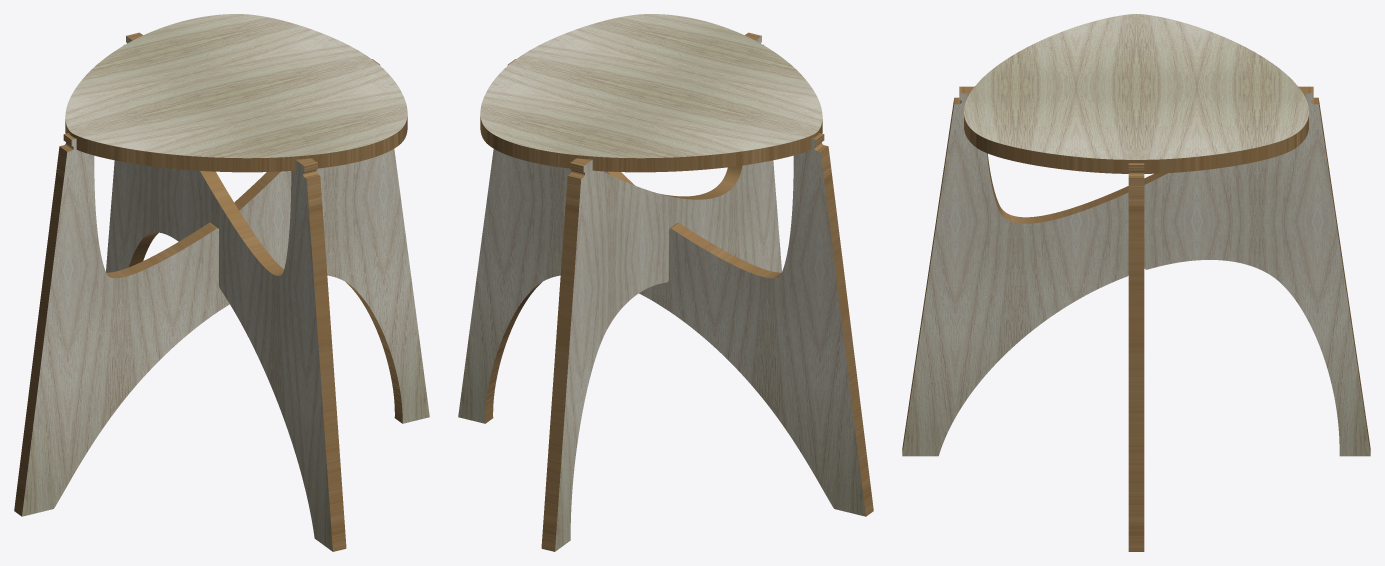
Rendered from NODO_BANQUETA_CRUZ_KIRI_V1_REVISION.glb.
The picture shows the model from 3 angles, left to right: view 1: azimuth 30°, elevation 25°; view 2: azimuth 150°, elevation 25°; view 3: azimuth 270°, elevation 25°; orthographic projection.
Visible parts, largest first — view 1: Lateral_2, Tapa, Lateral_1; view 2: Lateral_2, Tapa, Lateral_1; view 3: Lateral_1, Tapa, Lateral_2.
Part boxes in pixels (left/top/right/bottom): Lateral_2: left=14, top=59, right=429, bottom=516; Tapa: left=65, top=14, right=407, bottom=172; Lateral_1: left=106, top=32, right=346, bottom=551; Lateral_2: left=458, top=59, right=873, bottom=516; Tapa: left=480, top=14, right=822, bottom=172; Lateral_1: left=541, top=32, right=781, bottom=551; Lateral_1: left=902, top=86, right=1370, bottom=456; Tapa: left=964, top=14, right=1308, bottom=173; Lateral_2: left=1128, top=163, right=1144, bottom=551.
Size of the model in its own units: 0.5431 by 0.468 by 0.5431.
Materials: 2 (2 with a texture image).
